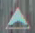Speed Breaker ahead: (1, 3, 33, 32)
